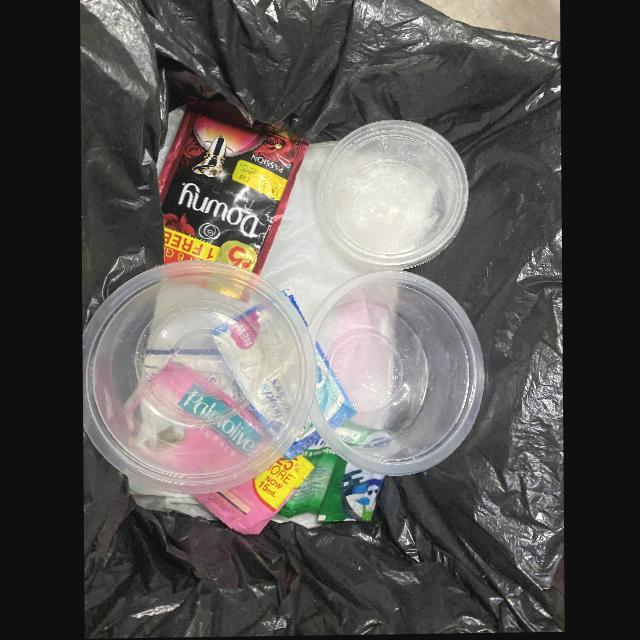plastic: (82, 259, 316, 495), (308, 271, 484, 477), (315, 120, 468, 272)
wrapper: (158, 97, 309, 275), (192, 455, 314, 535), (277, 432, 382, 524)
